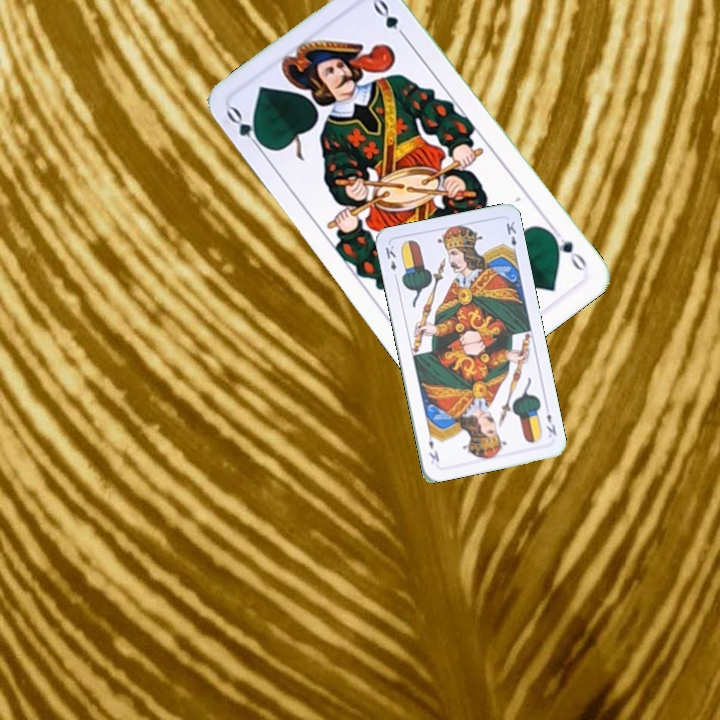EK: (381, 241, 400, 282), (542, 409, 559, 438)
GO: (222, 103, 270, 155), (544, 223, 590, 275)
